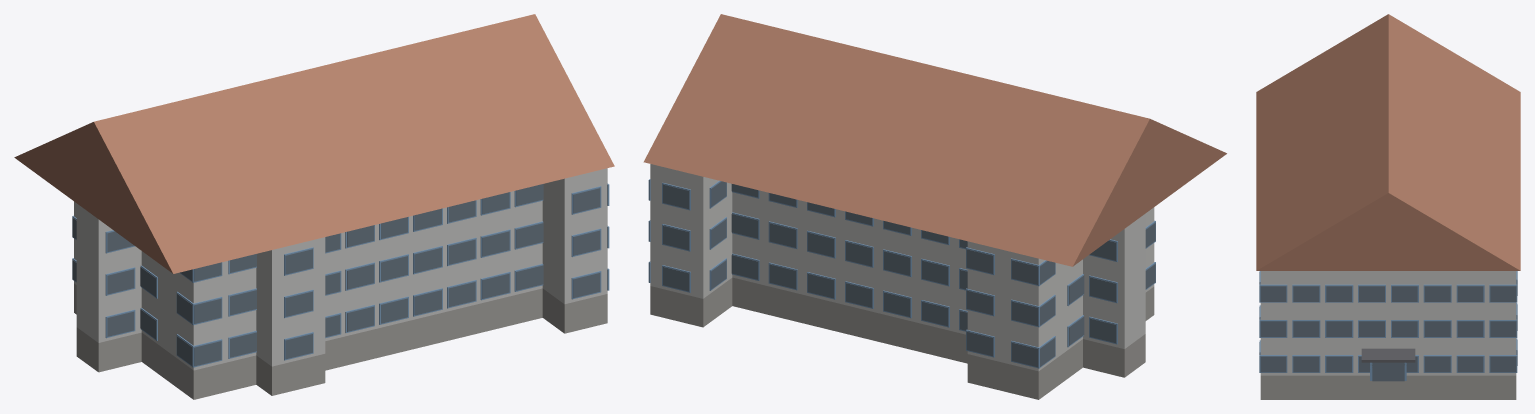
The model's file is landmark-kandern-bfa.glb.
3 renders of one model, left to right at view 1: azimuth 30°, elevation 25°; view 2: azimuth 150°, elevation 25°; view 3: azimuth 270°, elevation 25°, orthographic. The views are drawn at different scales.
Parts seen in each view (by area): view 1: building; view 2: building; view 3: building.
Part boxes in pixels (box(x1,y1,x2,y2)): building: box(14, 14, 614, 399); building: box(643, 14, 1226, 399); building: box(1256, 14, 1520, 399).
Size of the model in its own units: 41.37 by 21.4 by 24.55.
